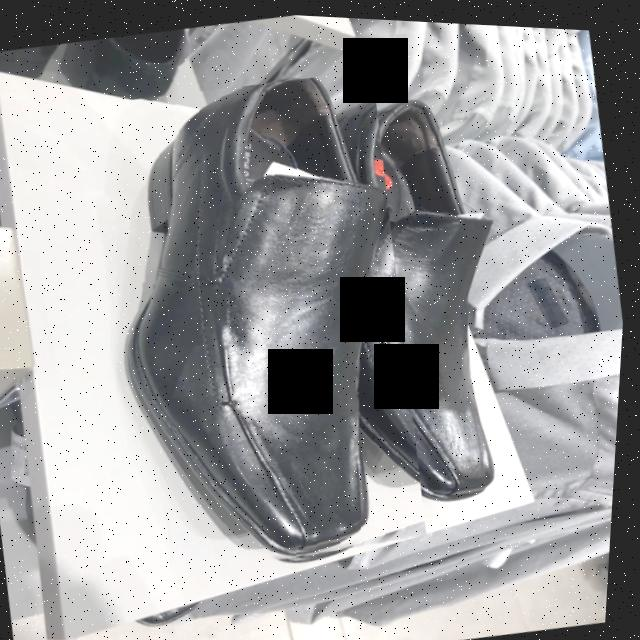shoe: (130, 74, 390, 555)
